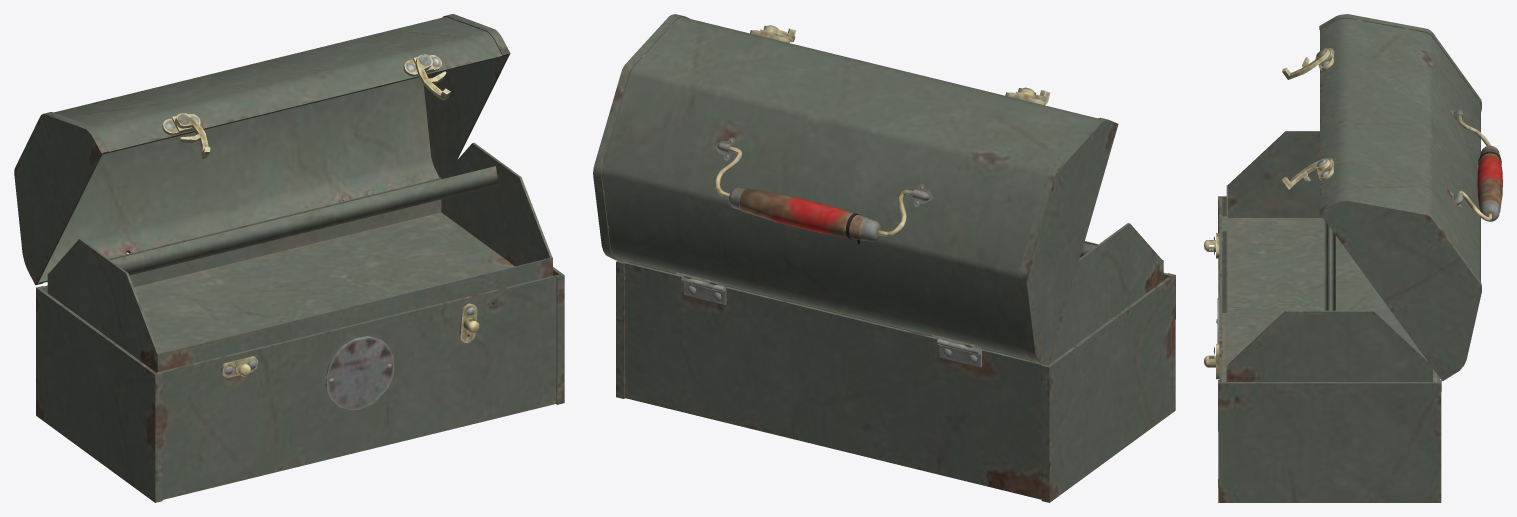
File: metal_toolbox.glb
The picture shows the model from 3 angles, left to right: view 1: azimuth 30°, elevation 25°; view 2: azimuth 150°, elevation 25°; view 3: azimuth 270°, elevation 25°; orthographic projection. The views are drawn at different scales.
Visible parts, largest first — view 1: metal_toolbox_lid, metal_toolbox, metal_toolbox_tray, metal_toolbox_handle_latch_r, metal_toolbox_handle_latch_l; view 2: metal_toolbox_lid, metal_toolbox, metal_toolbox_tray, metal_toolbox_handle; view 3: metal_toolbox_lid, metal_toolbox_tray, metal_toolbox, metal_toolbox_handle, metal_toolbox_handle_latch_l, metal_toolbox_handle_latch_r.
Boxes of the visible parts, x1,y1,x2,y2 form: metal_toolbox_lid: [14, 14, 510, 285]; metal_toolbox: [36, 267, 564, 502]; metal_toolbox_tray: [47, 142, 552, 372]; metal_toolbox_handle_latch_r: [415, 54, 450, 100]; metal_toolbox_handle_latch_l: [175, 113, 210, 158]; metal_toolbox_lid: [593, 14, 1118, 365]; metal_toolbox: [616, 260, 1175, 502]; metal_toolbox_tray: [628, 223, 1163, 363]; metal_toolbox_handle: [715, 146, 912, 244]; metal_toolbox_lid: [1317, 14, 1481, 381]; metal_toolbox_tray: [1226, 131, 1432, 381]; metal_toolbox: [1204, 196, 1441, 502]; metal_toolbox_handle: [1457, 114, 1502, 221]; metal_toolbox_handle_latch_l: [1282, 48, 1329, 79]; metal_toolbox_handle_latch_r: [1282, 158, 1330, 189].
Size of the model in its own units: 0.4 by 0.3047 by 0.2705.
1 material, 1 textured.
